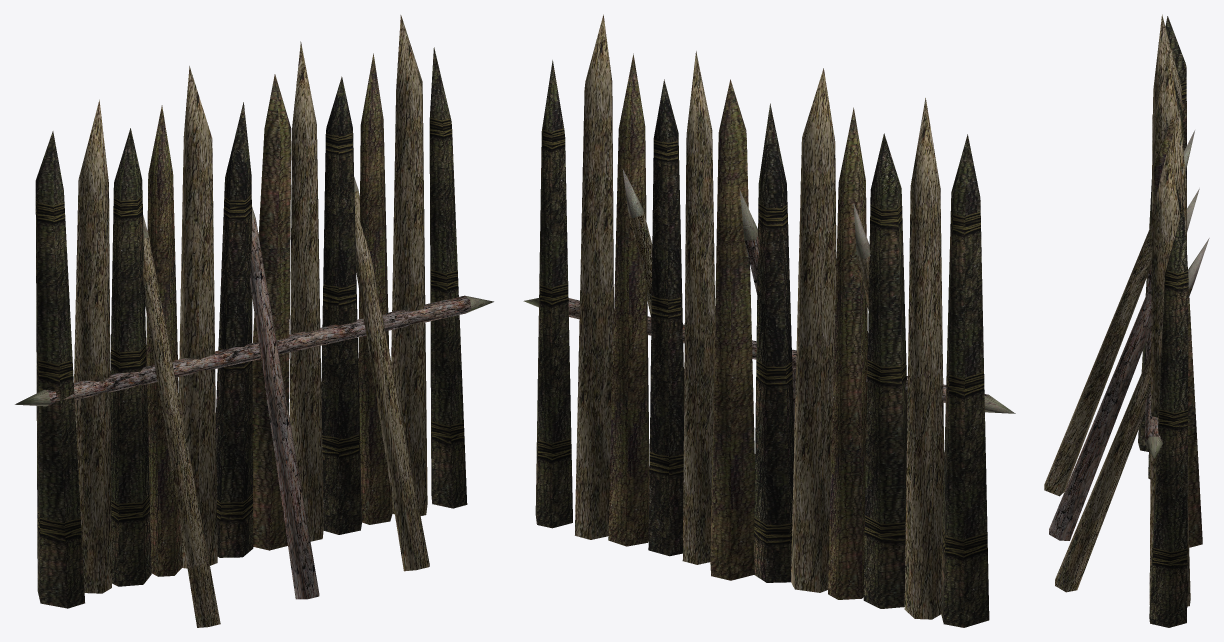
Rendered from GS_MISC_PALISADE_01.glb.
The picture shows the model from 3 angles, left to right: view 1: azimuth 30°, elevation 25°; view 2: azimuth 150°, elevation 25°; view 3: azimuth 270°, elevation 25°; orthographic projection. The views are drawn at different scales.
Parts seen in each view (by area): view 1: Mesh; view 2: Mesh; view 3: Mesh.
Part boxes in pixels (x1,y1,x2,y2): Mesh: [15, 15, 493, 627]; Mesh: [523, 14, 1015, 627]; Mesh: [1044, 14, 1209, 627].
Bounding box in the file's own units: 3.17 × 3.22 × 1.04.
5 materials, 5 textured.
